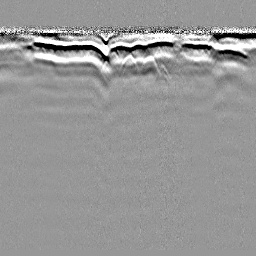cavity: (118, 52, 139, 78)
